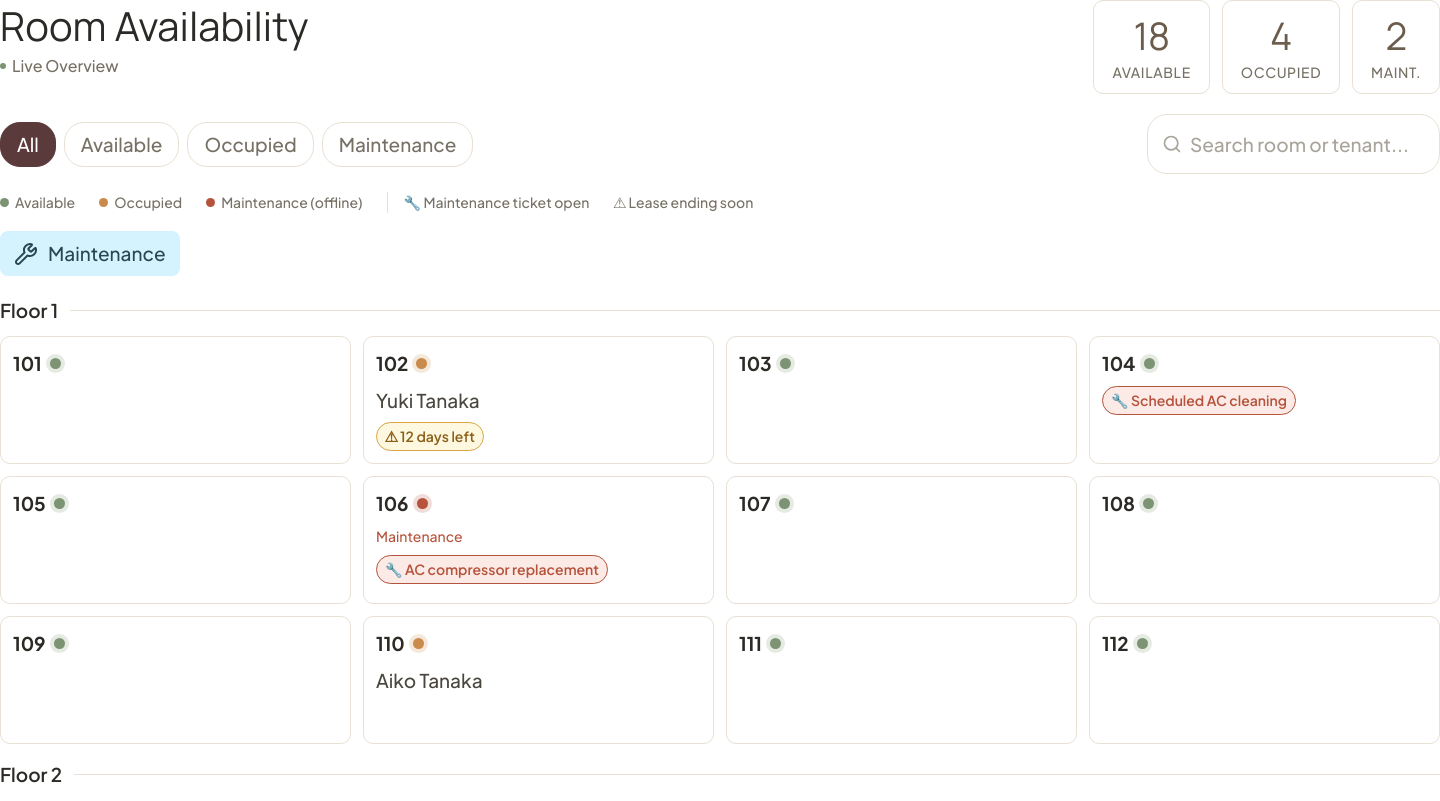
Scenario: US-09 open a room for the next action › S2 opens tenant and lease details for an occupied room
This screenshot has width=1440, height=801.
Expected: the button named "Unit 101" is shown, [0,336,351,464]
Step 1. Click the button with aria-label "Unit 102" → (392, 363), box [363,336,714,464]
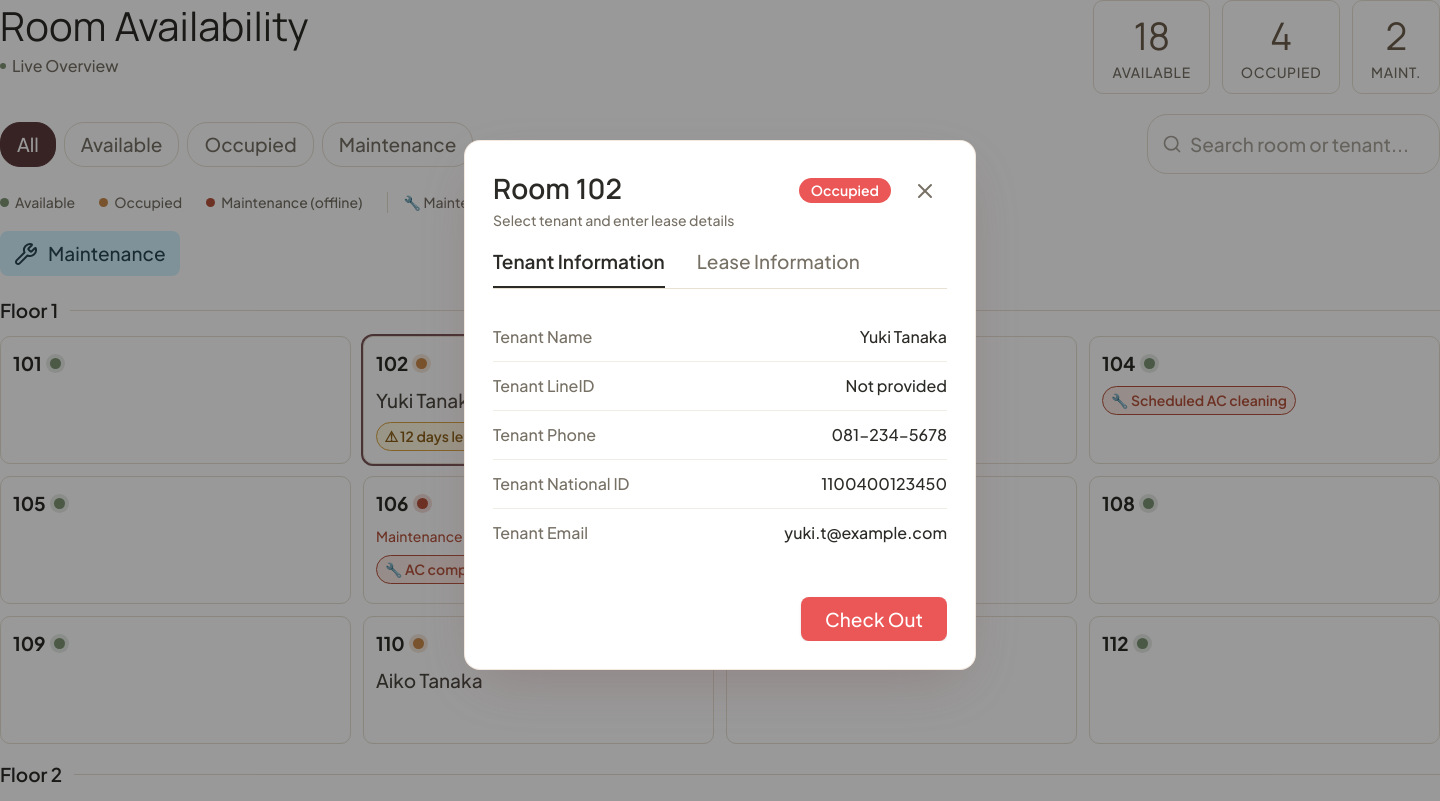
Now the heading "Room 102" is shown, box [493,169,622,207]
Now the text "Yuki Tanaka" is shown, box [860,325,947,349]
Now the button "Tenant Information" is shown, box [493,247,665,288]
